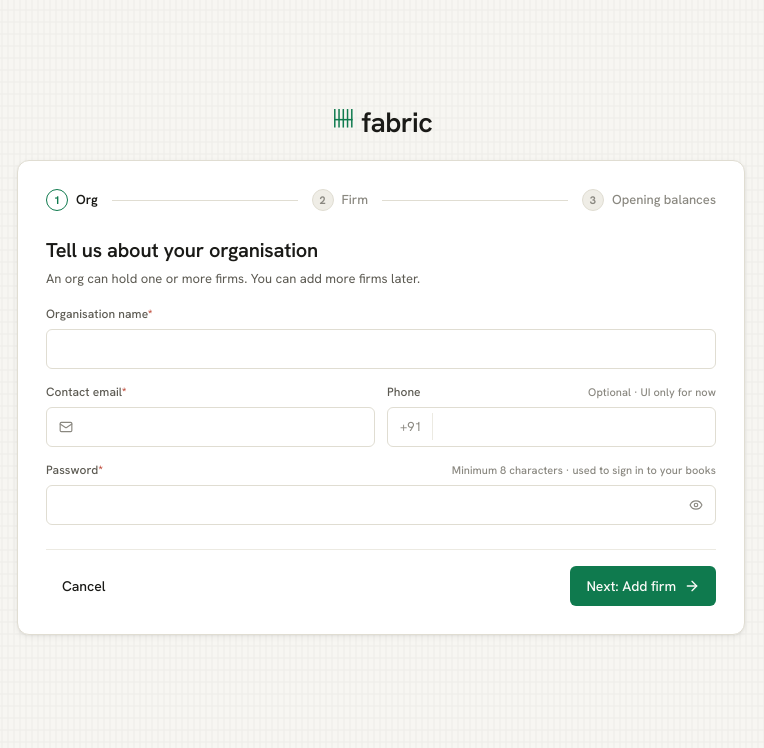
Scenario: Onboarding wizard — fields required for signup › auto-fills state code from GSTIN first two chars on step 2
Click the button "Next: Add firm" at (643, 586), box [570,566,716,606]
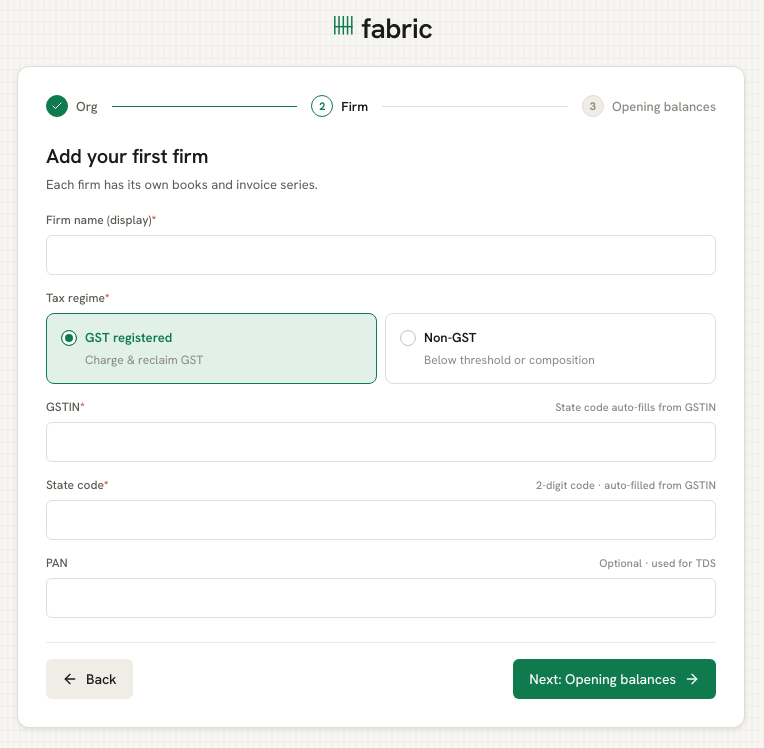
Type "27AAACR5055K1Z5" into the field with id "gstin" at (381, 442), box [47,432,715,453]
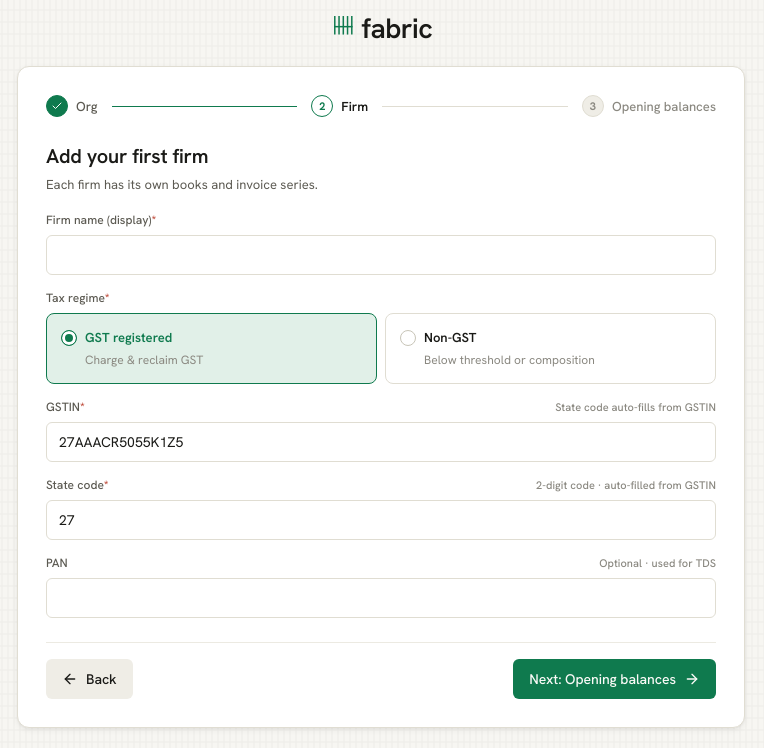
Expected: the field with id "state-code" holds "27", [47,510,715,531]
